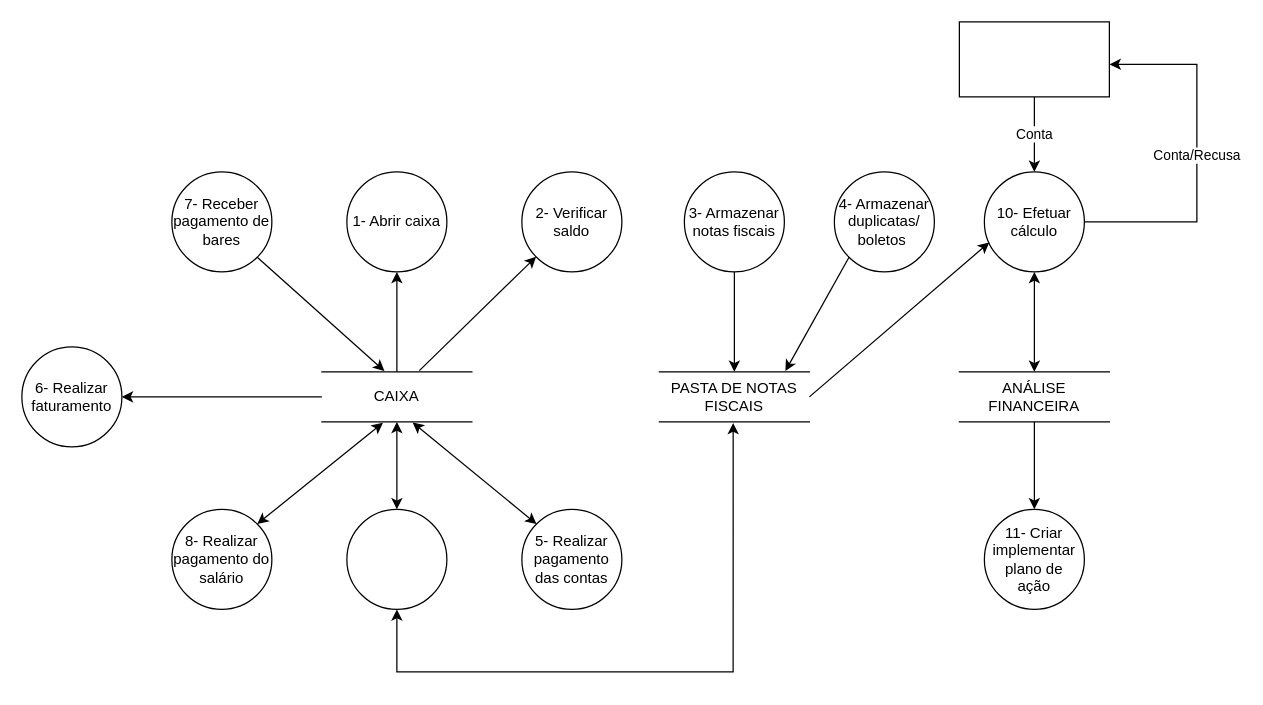
The diagram is 1263 pixels wide and 705 high, and some of its shapes have lost their labels. Here are the shapes that lost their labels. From the top down, the centre of each, then its label:
At (1033,59): "Contador".
At (396,558): "9- Realizar pagamento de impostos".
